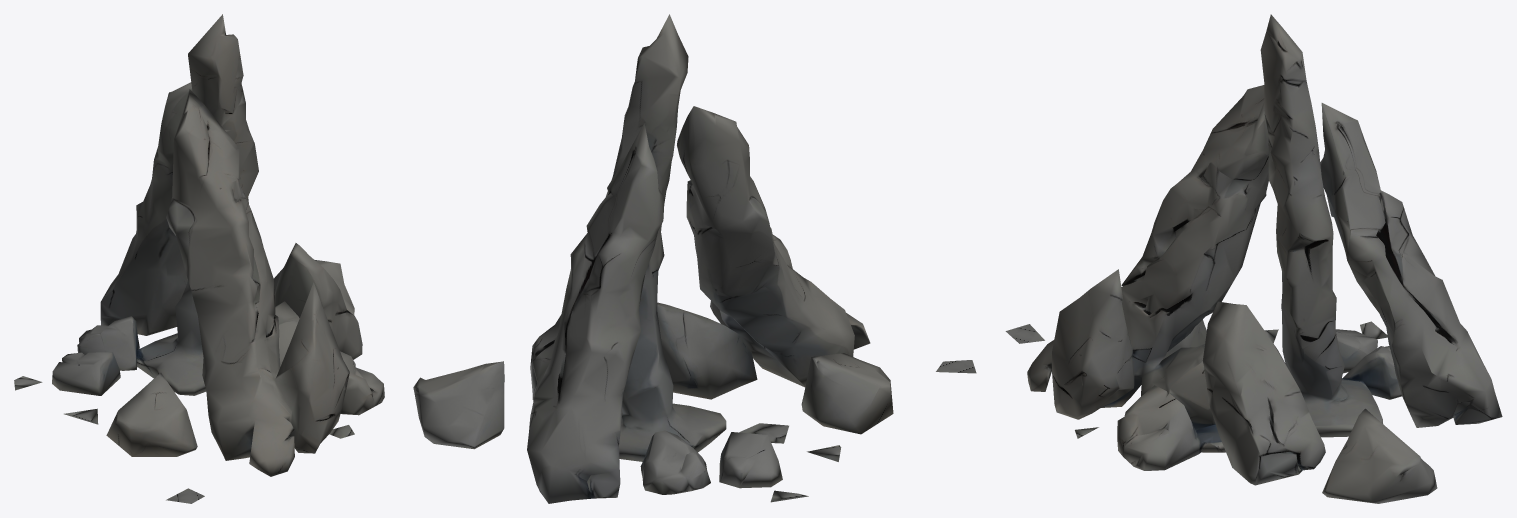
Rendered from rock_outcrop.glb.
3 views of the same model, side by side, from view 1: azimuth 30°, elevation 25°; view 2: azimuth 150°, elevation 25°; view 3: azimuth 270°, elevation 25° (orthographic). The views are drawn at different scales.
Visible parts, largest first — view 1: tripo_node_30825cca-e9a8-4f2b-9fea-0072e885ce57; view 2: tripo_node_30825cca-e9a8-4f2b-9fea-0072e885ce57; view 3: tripo_node_30825cca-e9a8-4f2b-9fea-0072e885ce57.
Boxes of the visible parts, bbox=[...] form: tripo_node_30825cca-e9a8-4f2b-9fea-0072e885ce57: bbox=[14, 14, 384, 503]; tripo_node_30825cca-e9a8-4f2b-9fea-0072e885ce57: bbox=[413, 14, 976, 503]; tripo_node_30825cca-e9a8-4f2b-9fea-0072e885ce57: bbox=[1005, 14, 1502, 503].
Bounding box in the file's own units: 1.17 × 1.2 × 1.34.
1 material, 1 textured.
